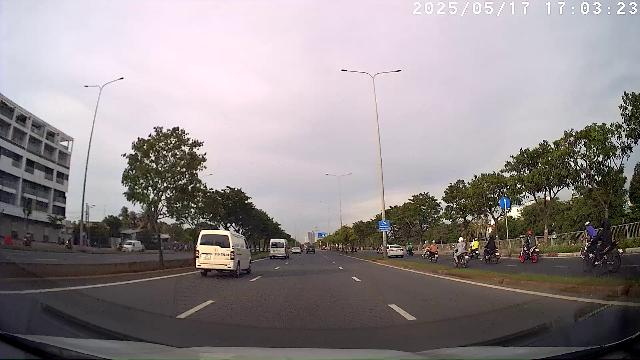301a-cac-xe-chi-duoc-di-thang: (500, 197, 511, 209)
